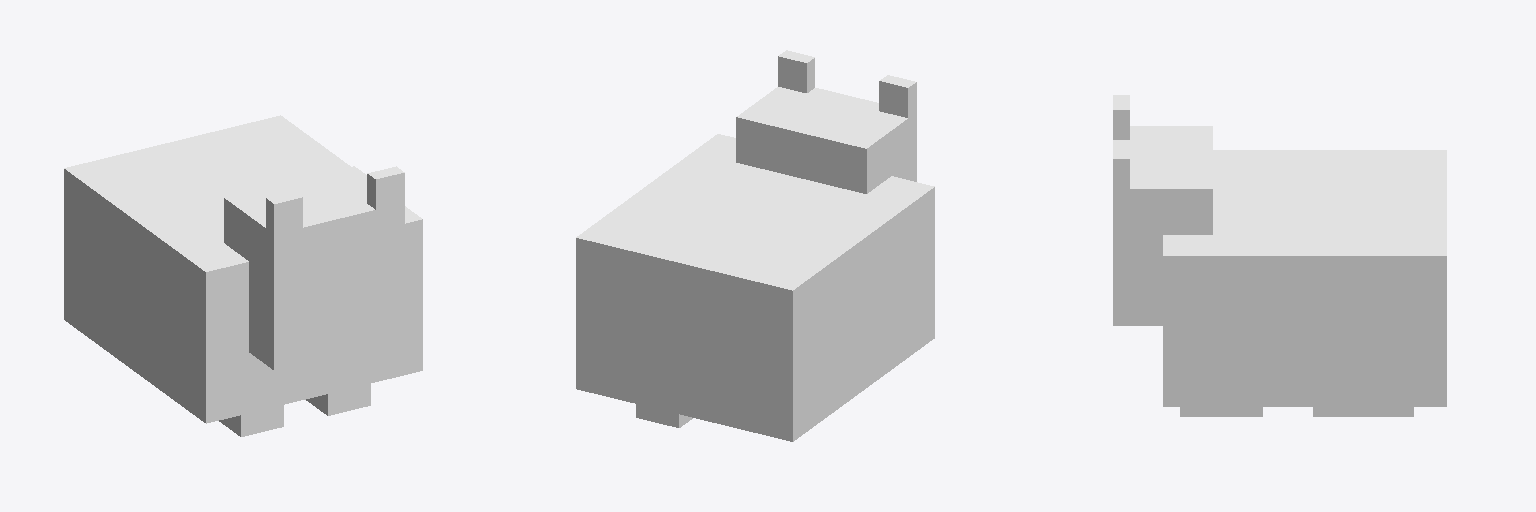
The model's file is Guineapig.obj.
3 views of the same model, side by side, from view 1: azimuth 30°, elevation 25°; view 2: azimuth 150°, elevation 25°; view 3: azimuth 270°, elevation 25° (orthographic).
Visible parts, largest first — view 1: object 1; view 2: object 1; view 3: object 1.
Part boxes in pixels (left/top/right/bottom): object 1: left=64, top=115, right=422, bottom=436; object 1: left=576, top=50, right=934, bottom=441; object 1: left=1113, top=95, right=1446, bottom=416.
Bounding box in the file's own units: 1.5 × 1.7 × 2.